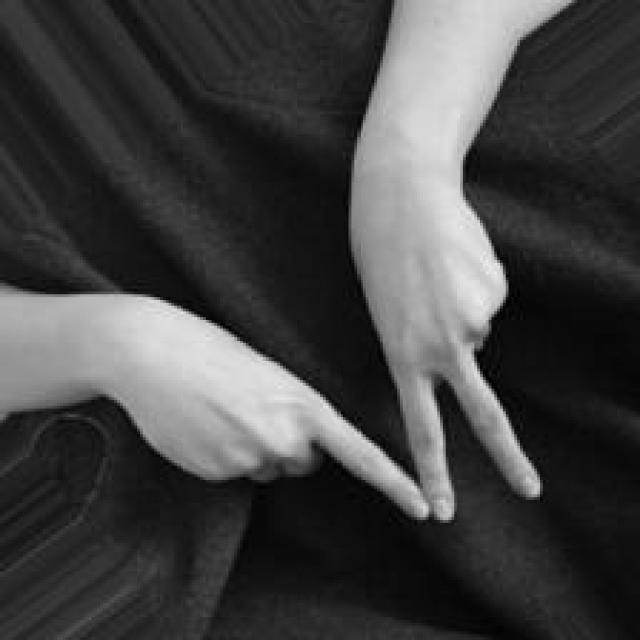N: (129, 178, 553, 536)
